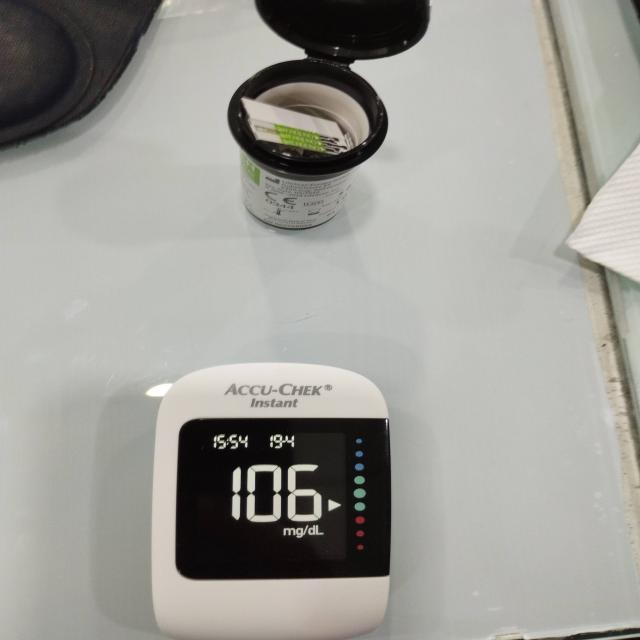gluco: (150, 363, 395, 640)
